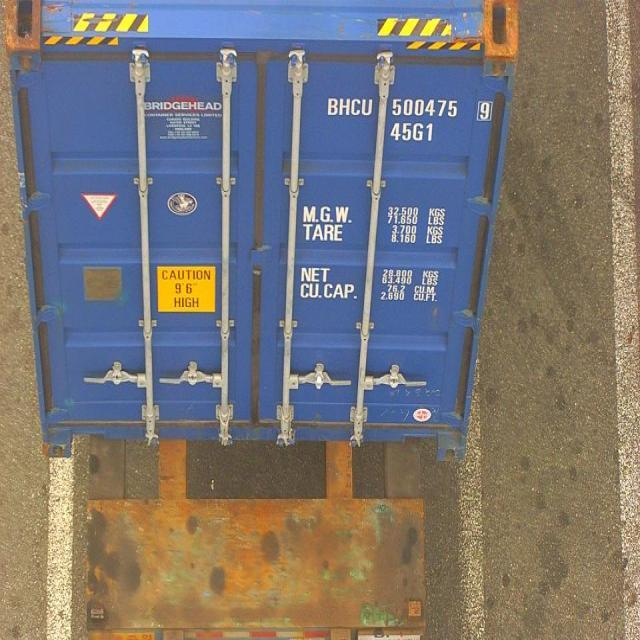ISO: (394, 123, 432, 142)
container_number: (334, 99, 492, 118)
